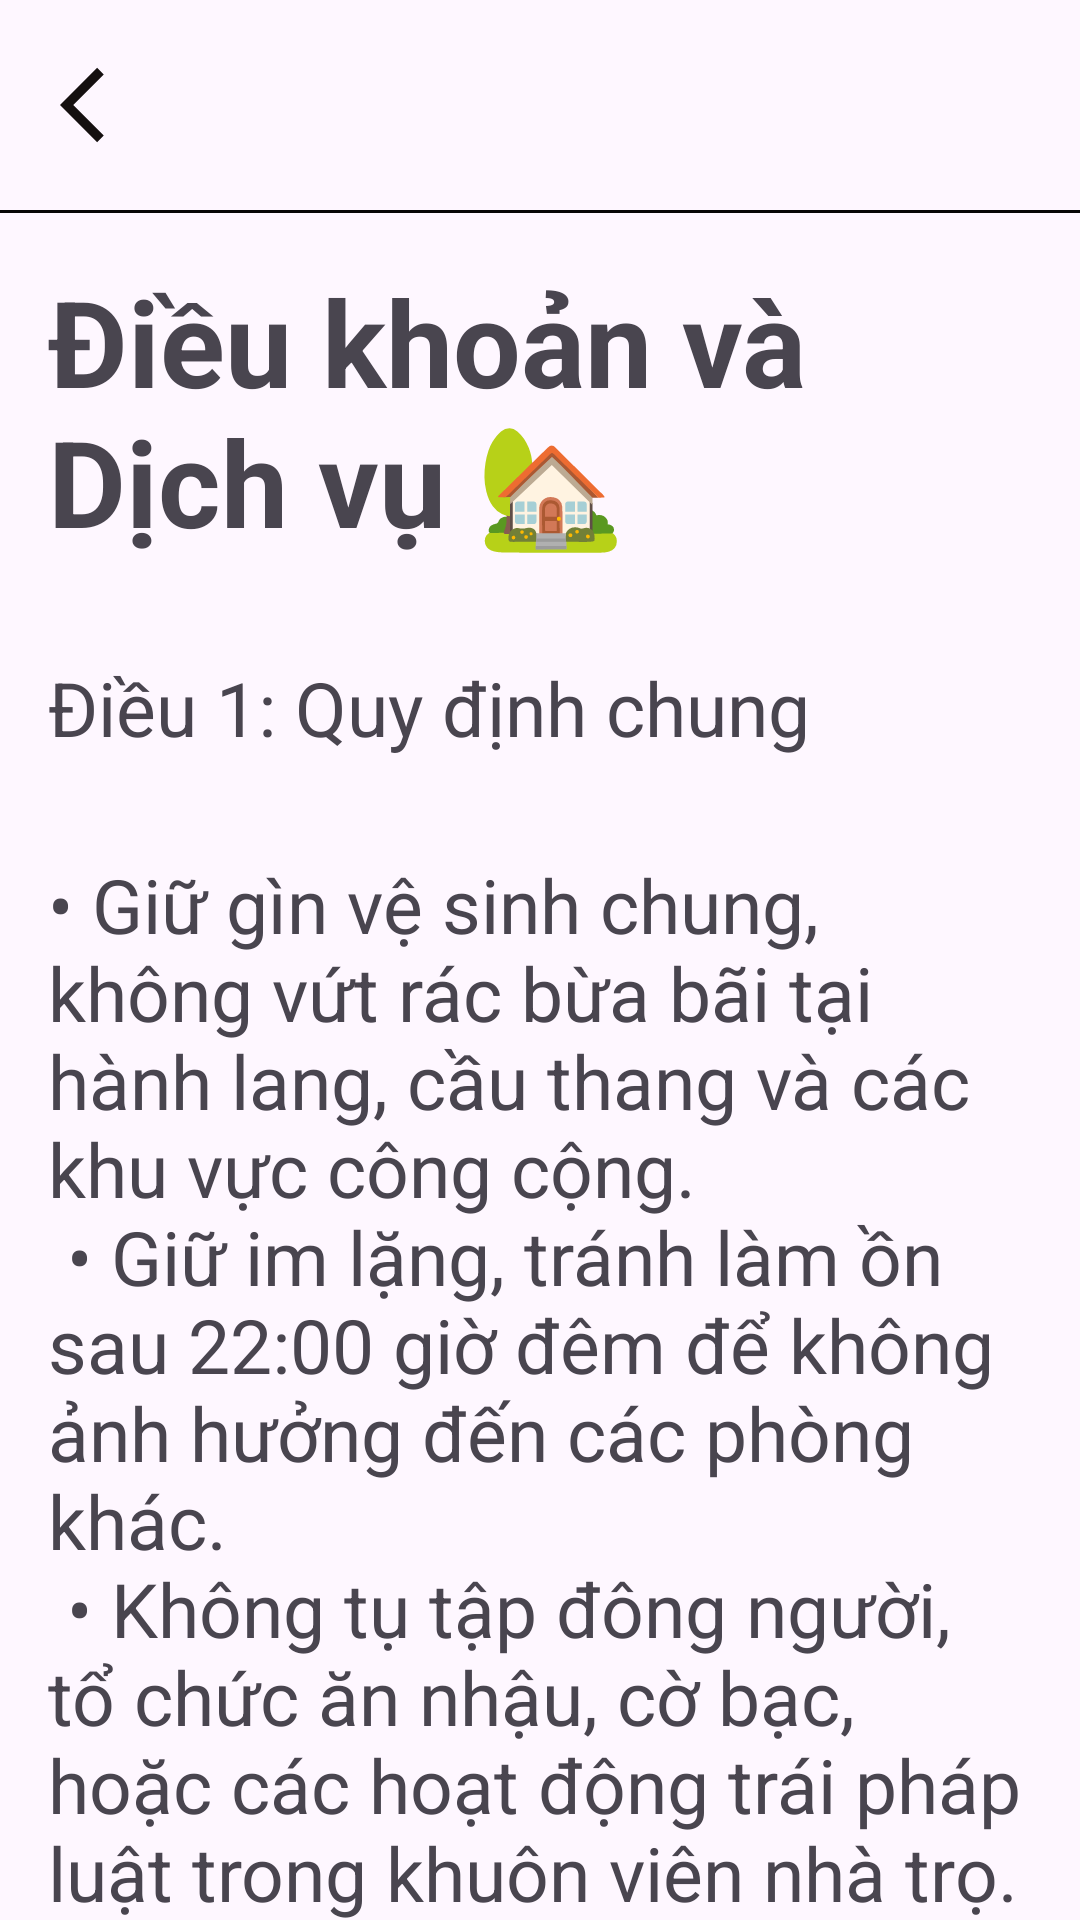

Named icons in this screenshot (1080px x 1920px) and their bounding boxes, (x1, y1, x2, y2):
back: (60, 68, 104, 142)
